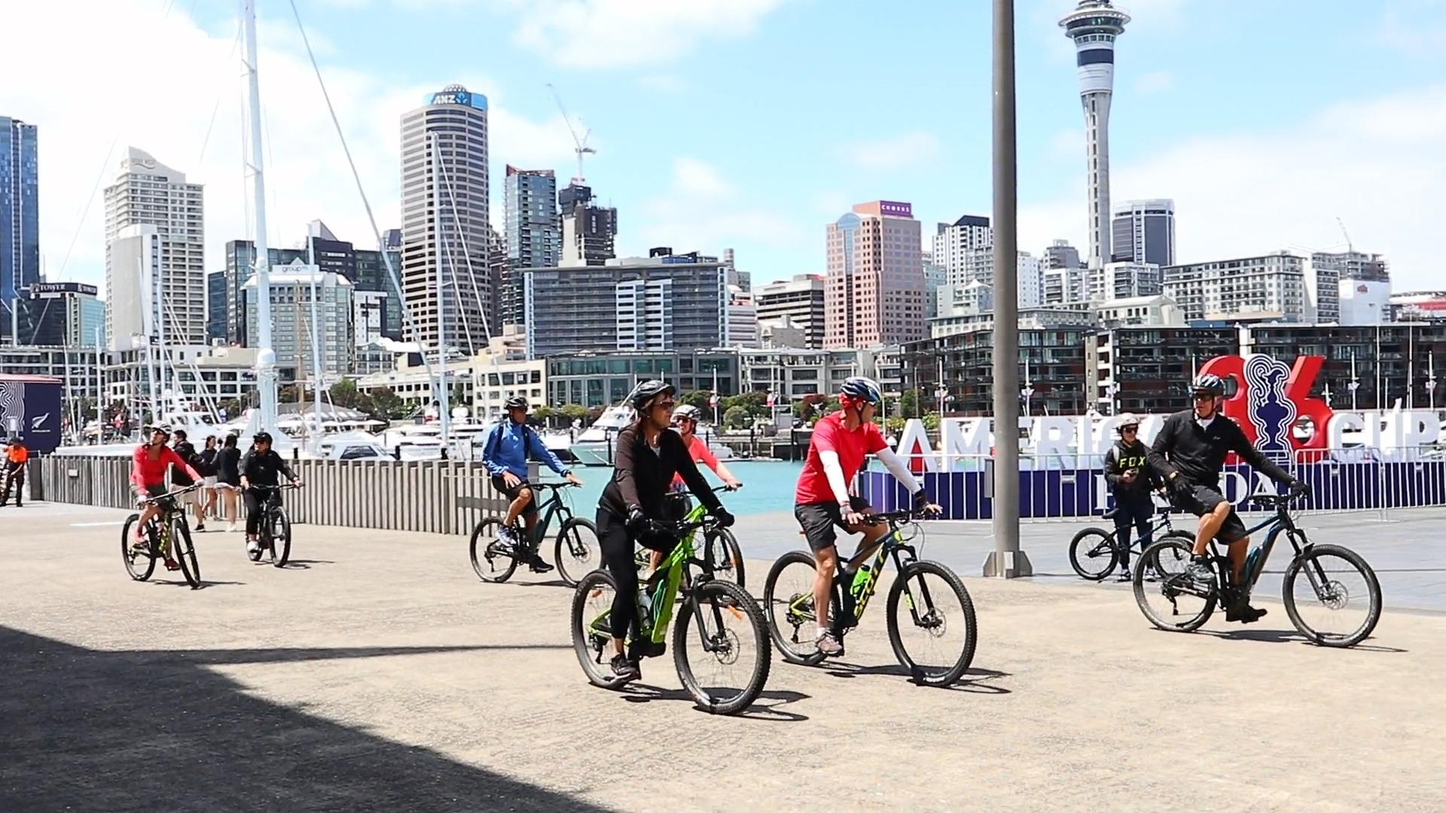bicyclist: (1133, 373, 1382, 647), (571, 379, 771, 715), (763, 376, 978, 686), (469, 395, 607, 588), (122, 421, 205, 588), (239, 431, 305, 568)
helmet: (631, 380, 677, 430), (838, 376, 883, 426), (1191, 373, 1224, 421), (1113, 413, 1140, 446), (674, 404, 701, 436), (503, 395, 529, 425), (150, 421, 171, 446), (253, 431, 273, 454)
